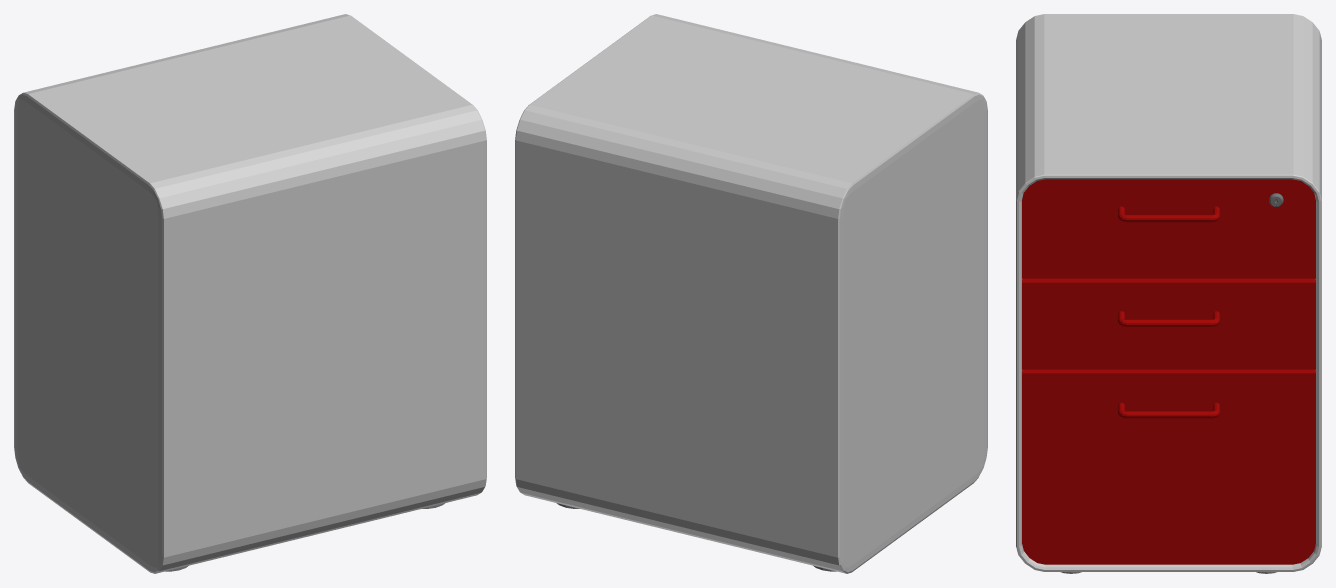
File: filing_cabinet_sketchfab.fbx
3 views of the same model, side by side, from view 1: azimuth 30°, elevation 25°; view 2: azimuth 150°, elevation 25°; view 3: azimuth 270°, elevation 25° (orthographic). The views are drawn at different scales.
Parts seen in each view (by area): view 1: filing_cabinet; view 2: filing_cabinet; view 3: filing_cabinet.
Part boxes in pixels (x1,y1,x2,y2): filing_cabinet: (14,14,486,573); filing_cabinet: (515,14,987,573); filing_cabinet: (1016,14,1321,573).
Bounding box in the file's own units: 2101 × 2350 × 1600.
